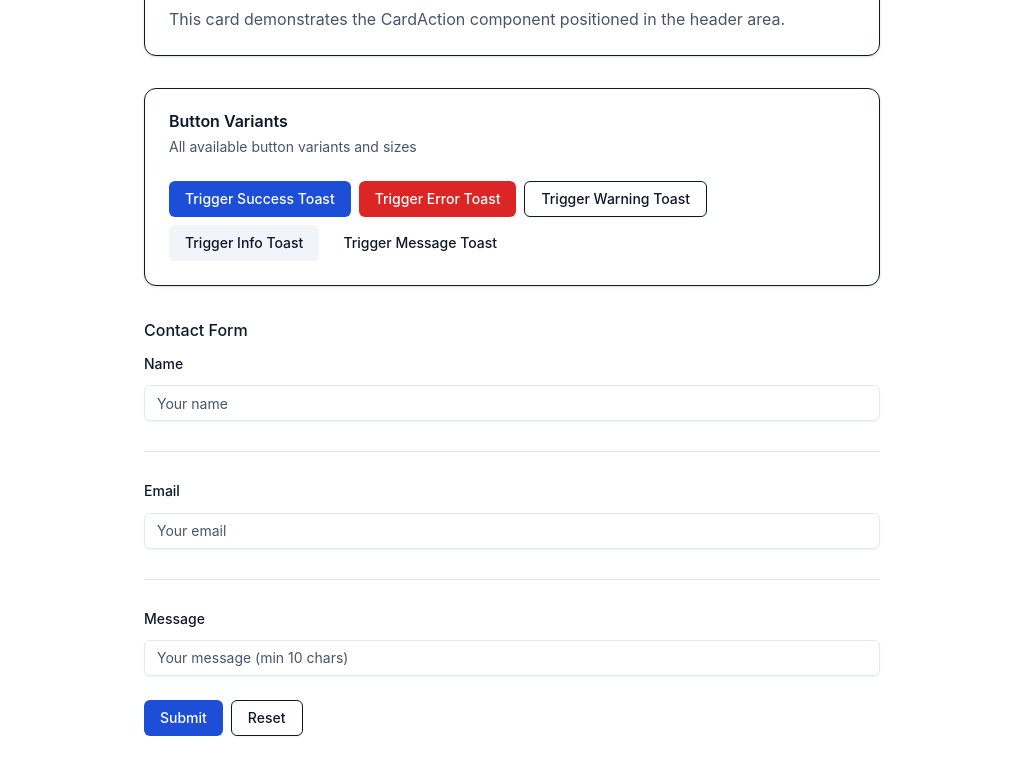
Test: ComponentDemoPage › clears values and errors when reset button is clicked
(page scrolled)
Click the button "Submit": (183, 718) x1=144 y1=700 x2=223 y2=736
(page scrolled)
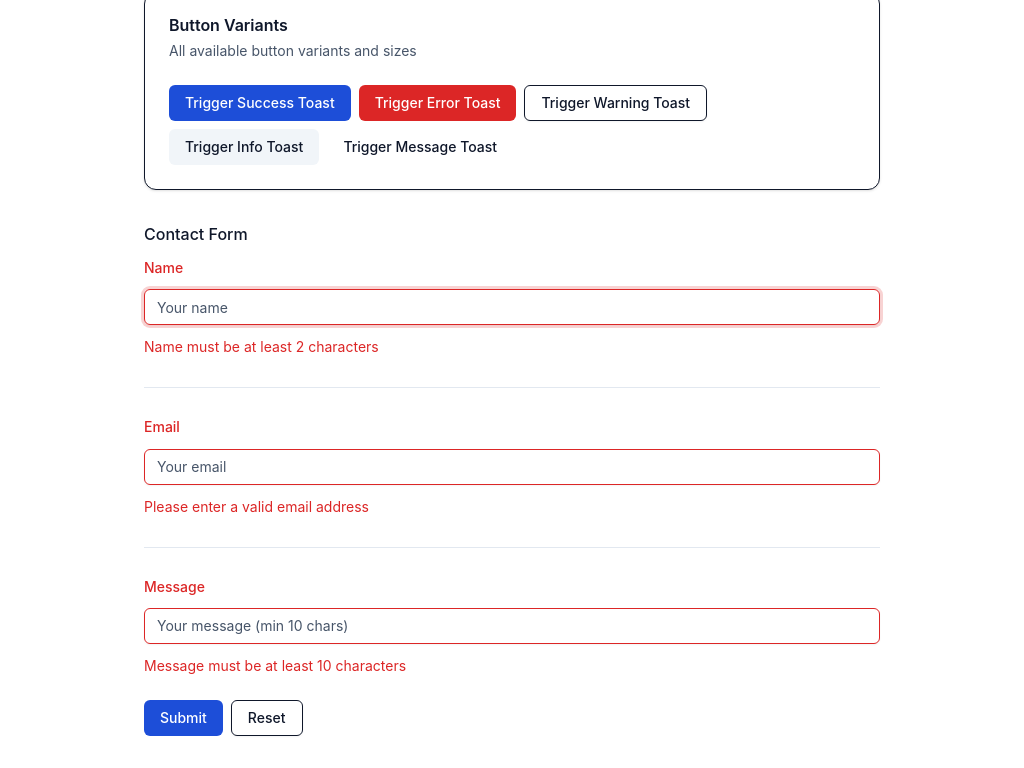
Result: the text "Name must be at least 2 characters" is shown at x1=144 y1=338 x2=379 y2=355
Click the button "Reset": (267, 718) x1=231 y1=700 x2=302 y2=736
(page scrolled)
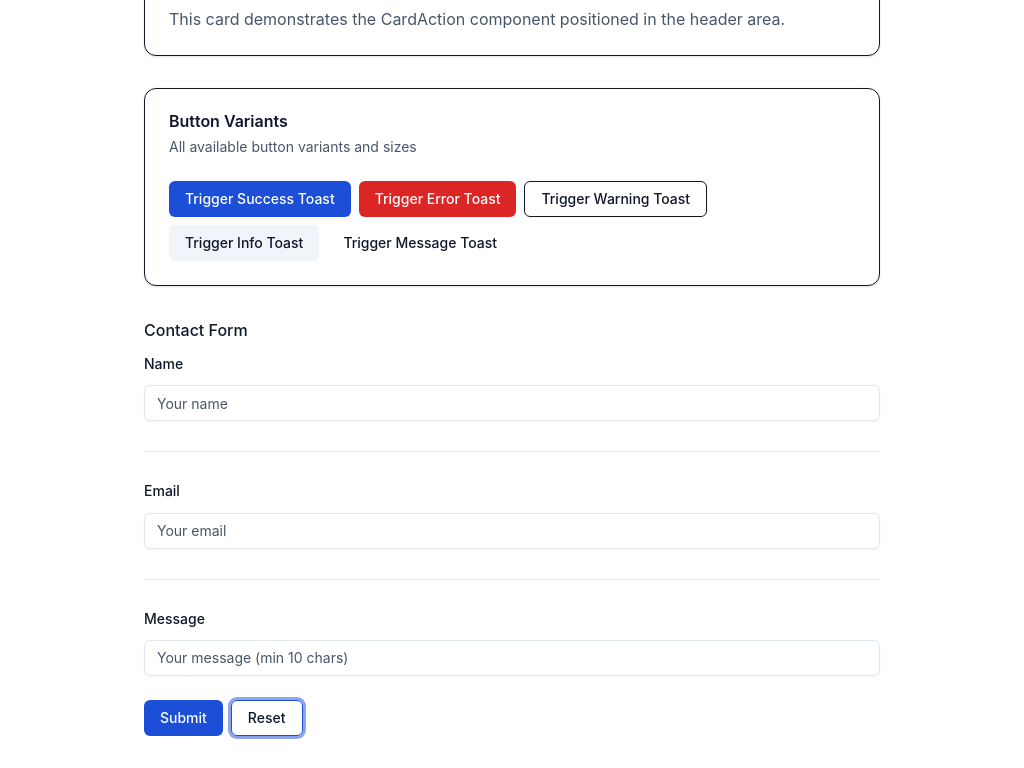
Expected: the field labelled "Name" is empty, x1=144 y1=385 x2=880 y2=421
Result: the text "Name must be at least 2 characters" is gone
Result: the message "Name must be at least 2 characters" is gone
